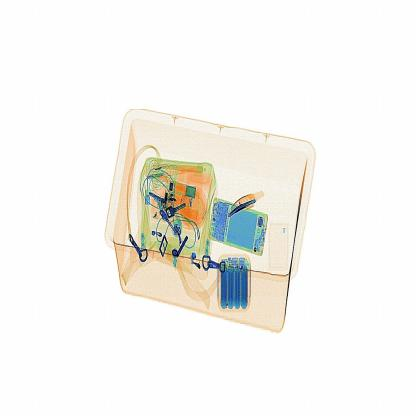pliers: (229, 186, 273, 220)
